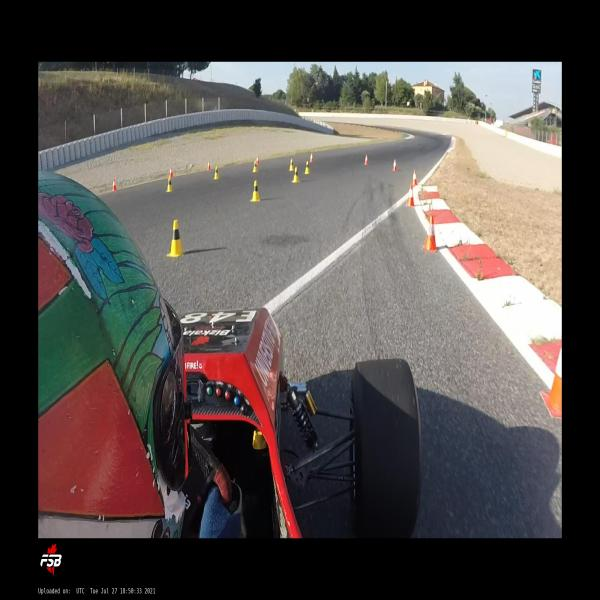orange_cone: (540, 347, 562, 418), (423, 215, 439, 251), (406, 185, 414, 206), (412, 169, 418, 186), (392, 159, 397, 171), (112, 178, 116, 191), (364, 154, 368, 166), (256, 156, 260, 165), (207, 161, 211, 170), (170, 167, 173, 178), (310, 153, 313, 163)
yellow_cone: (166, 219, 184, 256), (251, 180, 260, 202), (165, 176, 173, 192), (292, 167, 300, 182), (304, 160, 310, 174), (213, 166, 219, 179), (288, 158, 294, 171), (252, 160, 257, 172)
